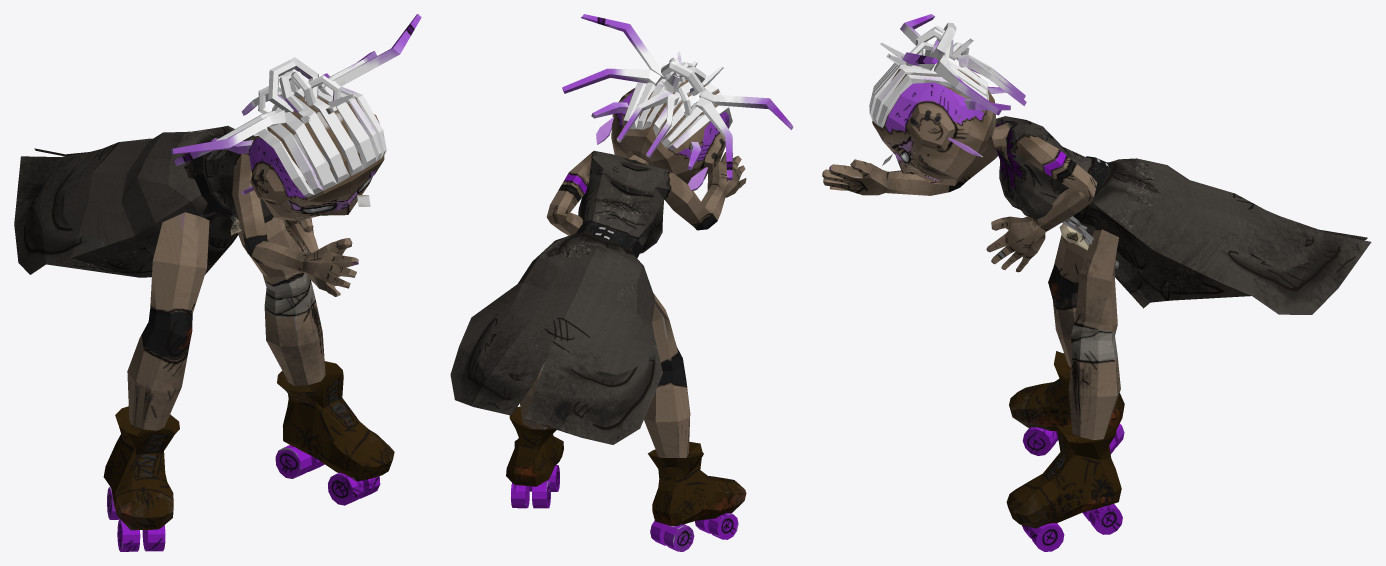
The model's file is bruja_000016.obj.
The picture shows the model from 3 angles, left to right: view 1: azimuth 30°, elevation 25°; view 2: azimuth 150°, elevation 25°; view 3: azimuth 270°, elevation 25°; orthographic projection. The views are drawn at different scales.
Parts seen in each view (by area): view 1: Bruja_Plane.001; view 2: Bruja_Plane.001; view 3: Bruja_Plane.001.
Boxes of the visible parts, x1,y1,x2,y2 form: Bruja_Plane.001: (14, 14, 421, 551); Bruja_Plane.001: (450, 14, 793, 551); Bruja_Plane.001: (822, 14, 1371, 551).
Size of the model in its own units: 7.86 by 14.45 by 14.71.
